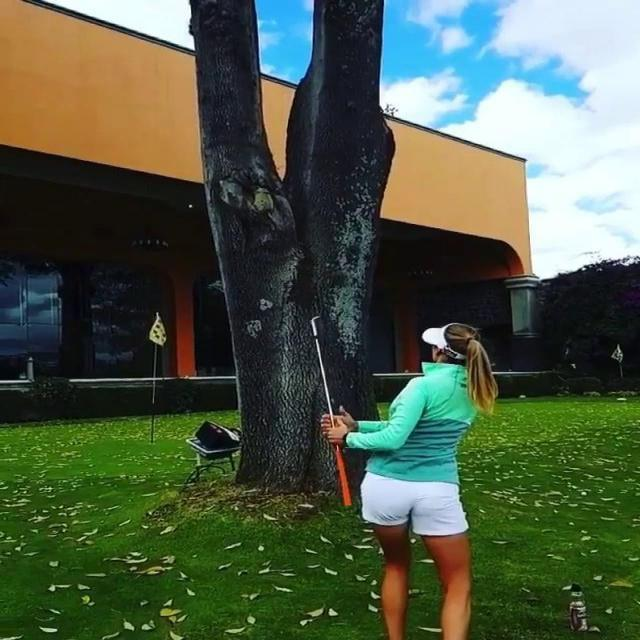ClubHead: (310, 312, 323, 324)
